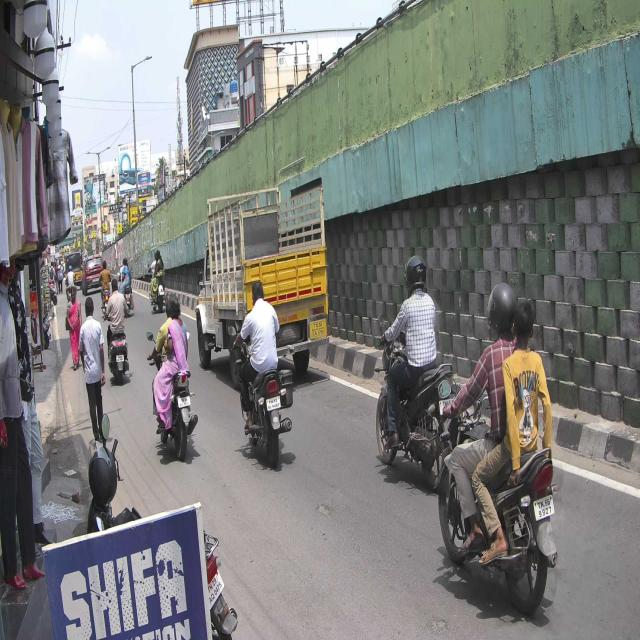double_rider: (439, 283, 558, 612), (147, 289, 200, 459)
single_rider: (374, 250, 438, 488), (230, 276, 296, 473)
